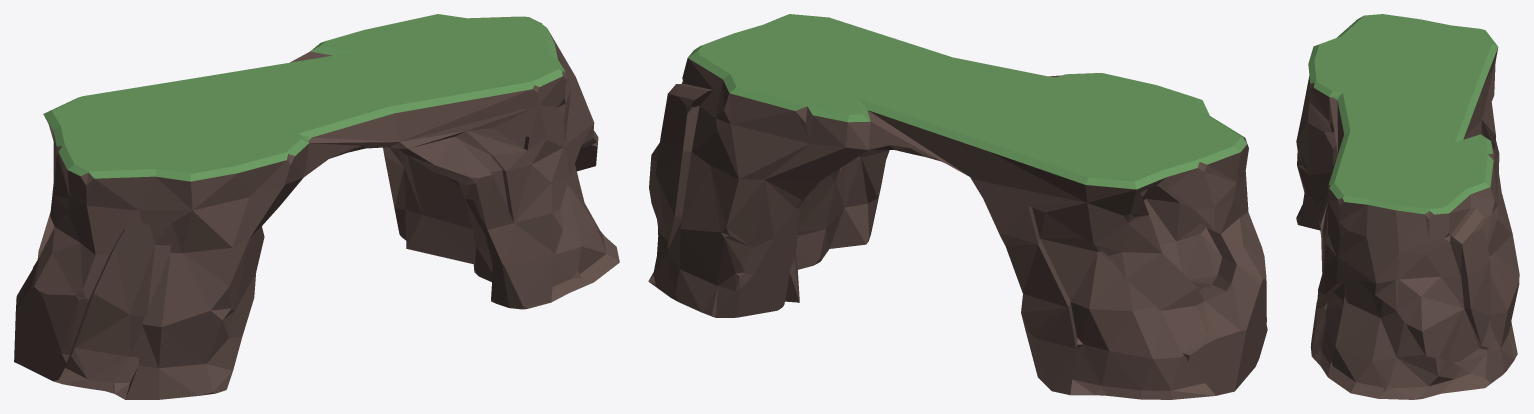
The model's file is Cliff 21.fbx.
3 views of the same model, side by side, from view 1: azimuth 30°, elevation 25°; view 2: azimuth 150°, elevation 25°; view 3: azimuth 270°, elevation 25° (orthographic). The views are drawn at different scales.
Parts seen in each view (by area): view 1: Cliff 27; view 2: Cliff 27; view 3: Cliff 27.
Boxes of the visible parts, bbox=[...] form: Cliff 27: bbox=[14, 14, 619, 399]; Cliff 27: bbox=[648, 14, 1267, 399]; Cliff 27: bbox=[1296, 14, 1519, 399].
Bounding box in the file's own units: 294 × 102 × 120.
